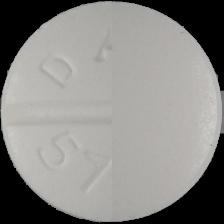63629-2909: (0, 0, 224, 224)
